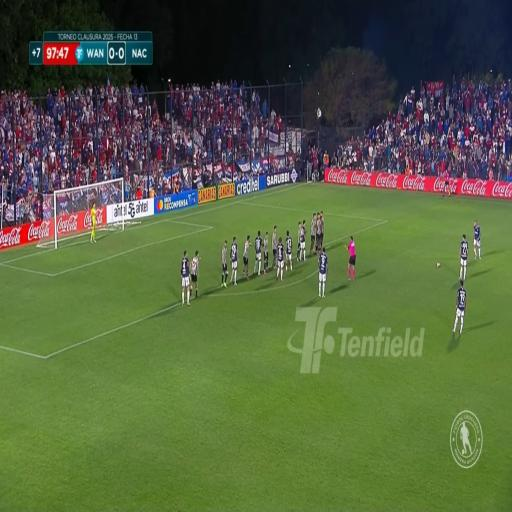Ball: (437, 259, 441, 271)
Goalkeeper: (90, 202, 98, 246)
Player: (453, 280, 468, 338), (180, 248, 192, 308), (458, 234, 470, 284), (188, 250, 200, 297), (220, 235, 230, 290), (230, 234, 239, 290), (318, 246, 327, 300), (276, 235, 286, 281), (253, 227, 262, 276), (472, 219, 483, 258), (242, 229, 250, 280), (284, 228, 292, 272), (299, 219, 307, 263), (318, 210, 326, 251), (309, 206, 315, 260), (263, 229, 270, 275), (271, 224, 277, 270), (296, 216, 301, 263), (316, 210, 321, 252)
Referee: (346, 235, 357, 280), (444, 170, 450, 198)
